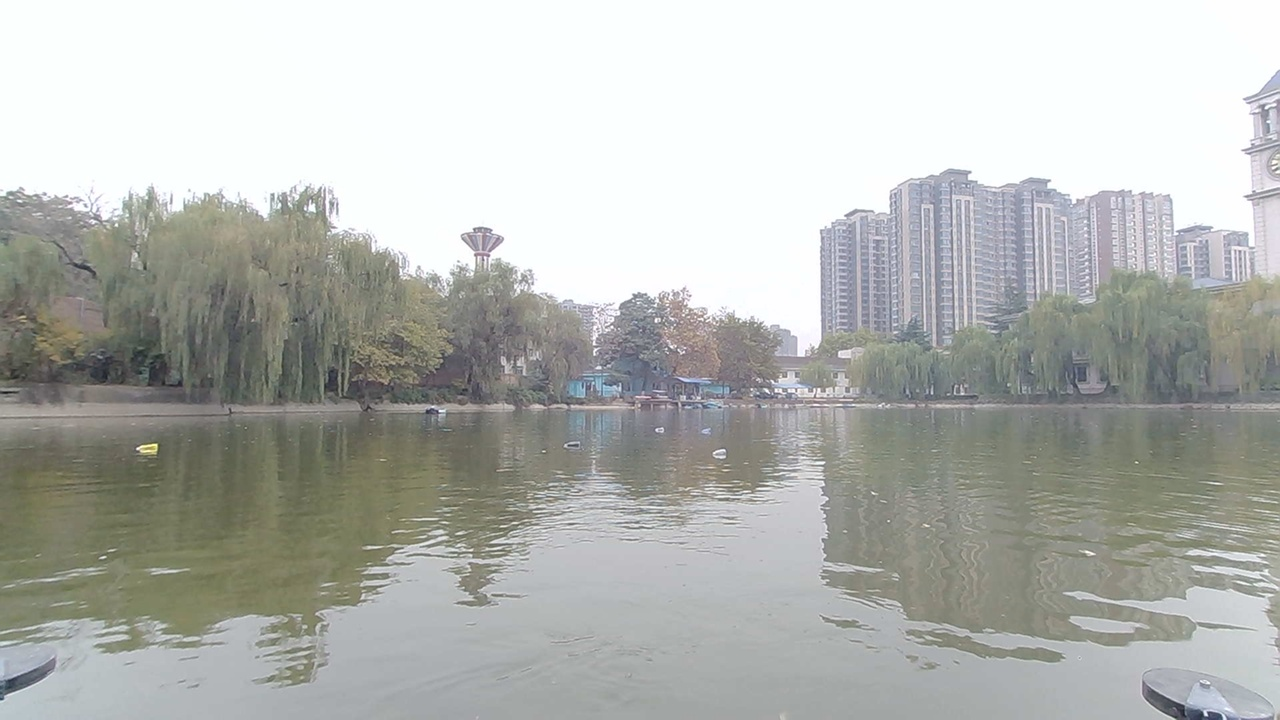bottle: (127, 430, 175, 462), (557, 431, 587, 453), (706, 441, 736, 462), (691, 419, 724, 436), (648, 419, 670, 438)
